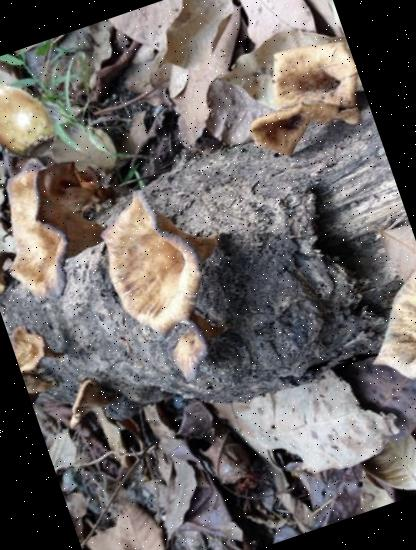Cactus: (0, 46, 79, 181)
